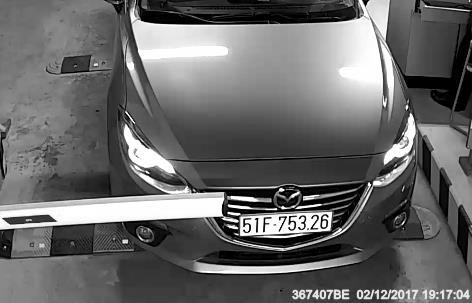License-plate: (238, 208, 342, 241)
